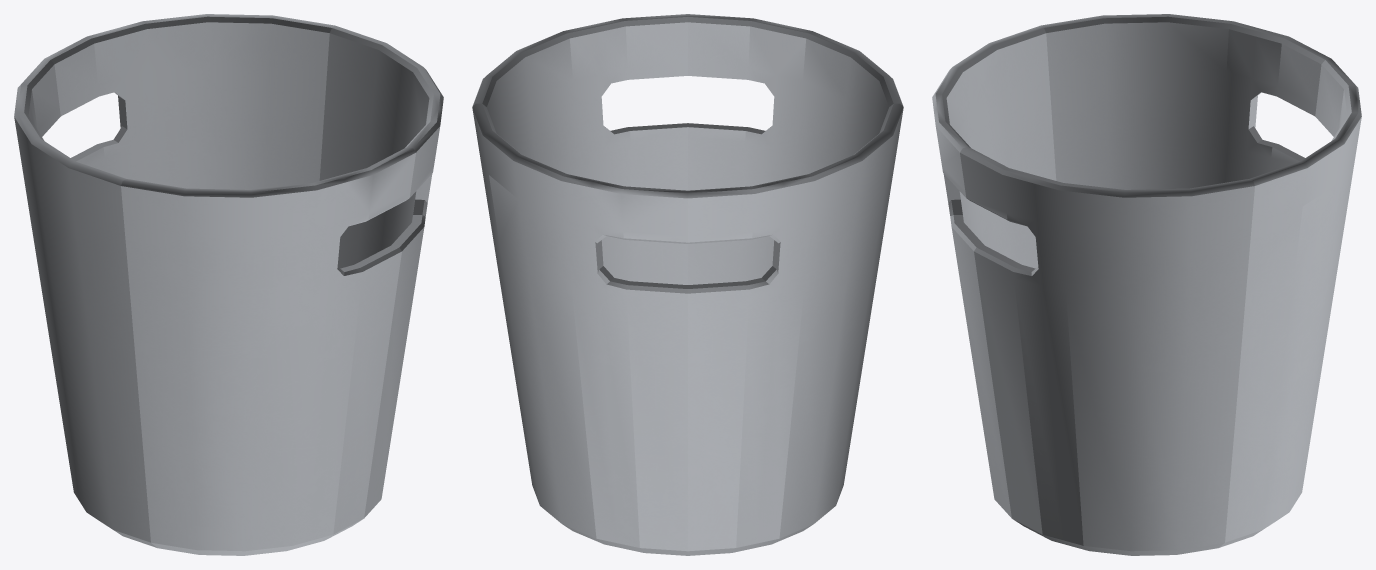
Rendered from 5_material18_cestino.fbx.
The picture shows the model from 3 angles, left to right: view 1: azimuth 30°, elevation 25°; view 2: azimuth 150°, elevation 25°; view 3: azimuth 270°, elevation 25°; orthographic projection.
Visible parts, largest first — view 1: 5_material18_cestino; view 2: 5_material18_cestino; view 3: 5_material18_cestino.
Boxes of the visible parts, bbox=[...] form: 5_material18_cestino: bbox=[14, 14, 443, 555]; 5_material18_cestino: bbox=[472, 14, 903, 555]; 5_material18_cestino: bbox=[932, 14, 1361, 555].
Size of the model in its own units: 209 by 211 by 209.
